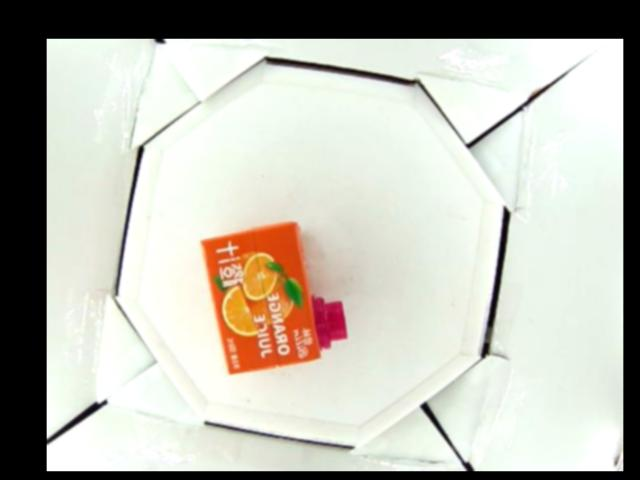Bottle: (200, 219, 346, 377)
